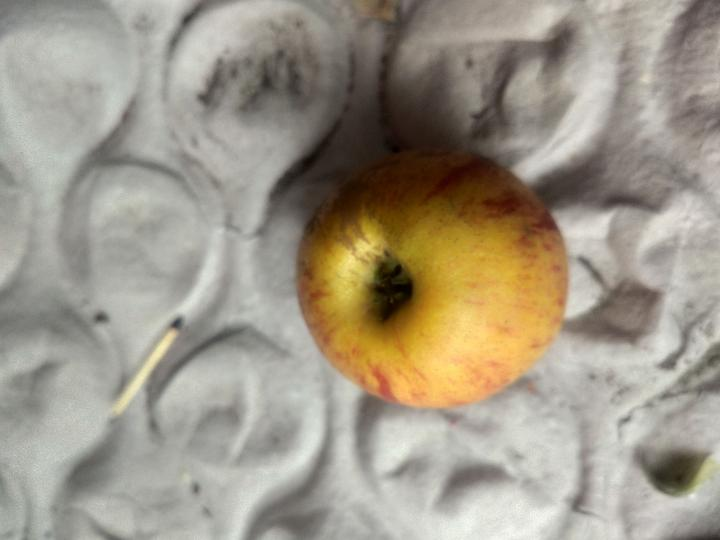apple: (297, 152, 568, 407)
bruise_discoloration: (336, 181, 380, 264)
